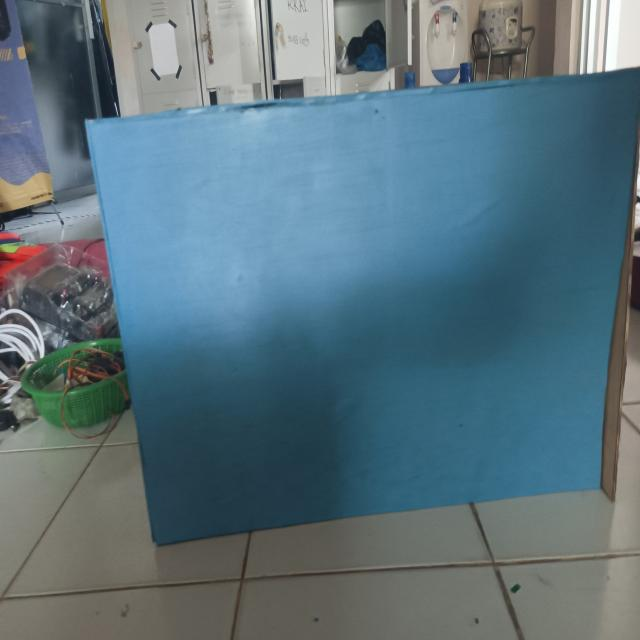blue_box: (71, 60, 640, 549)
